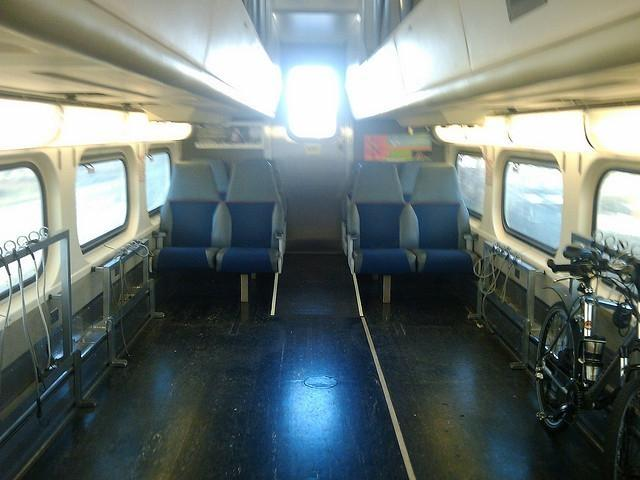bicycle: (531, 244, 640, 474)
